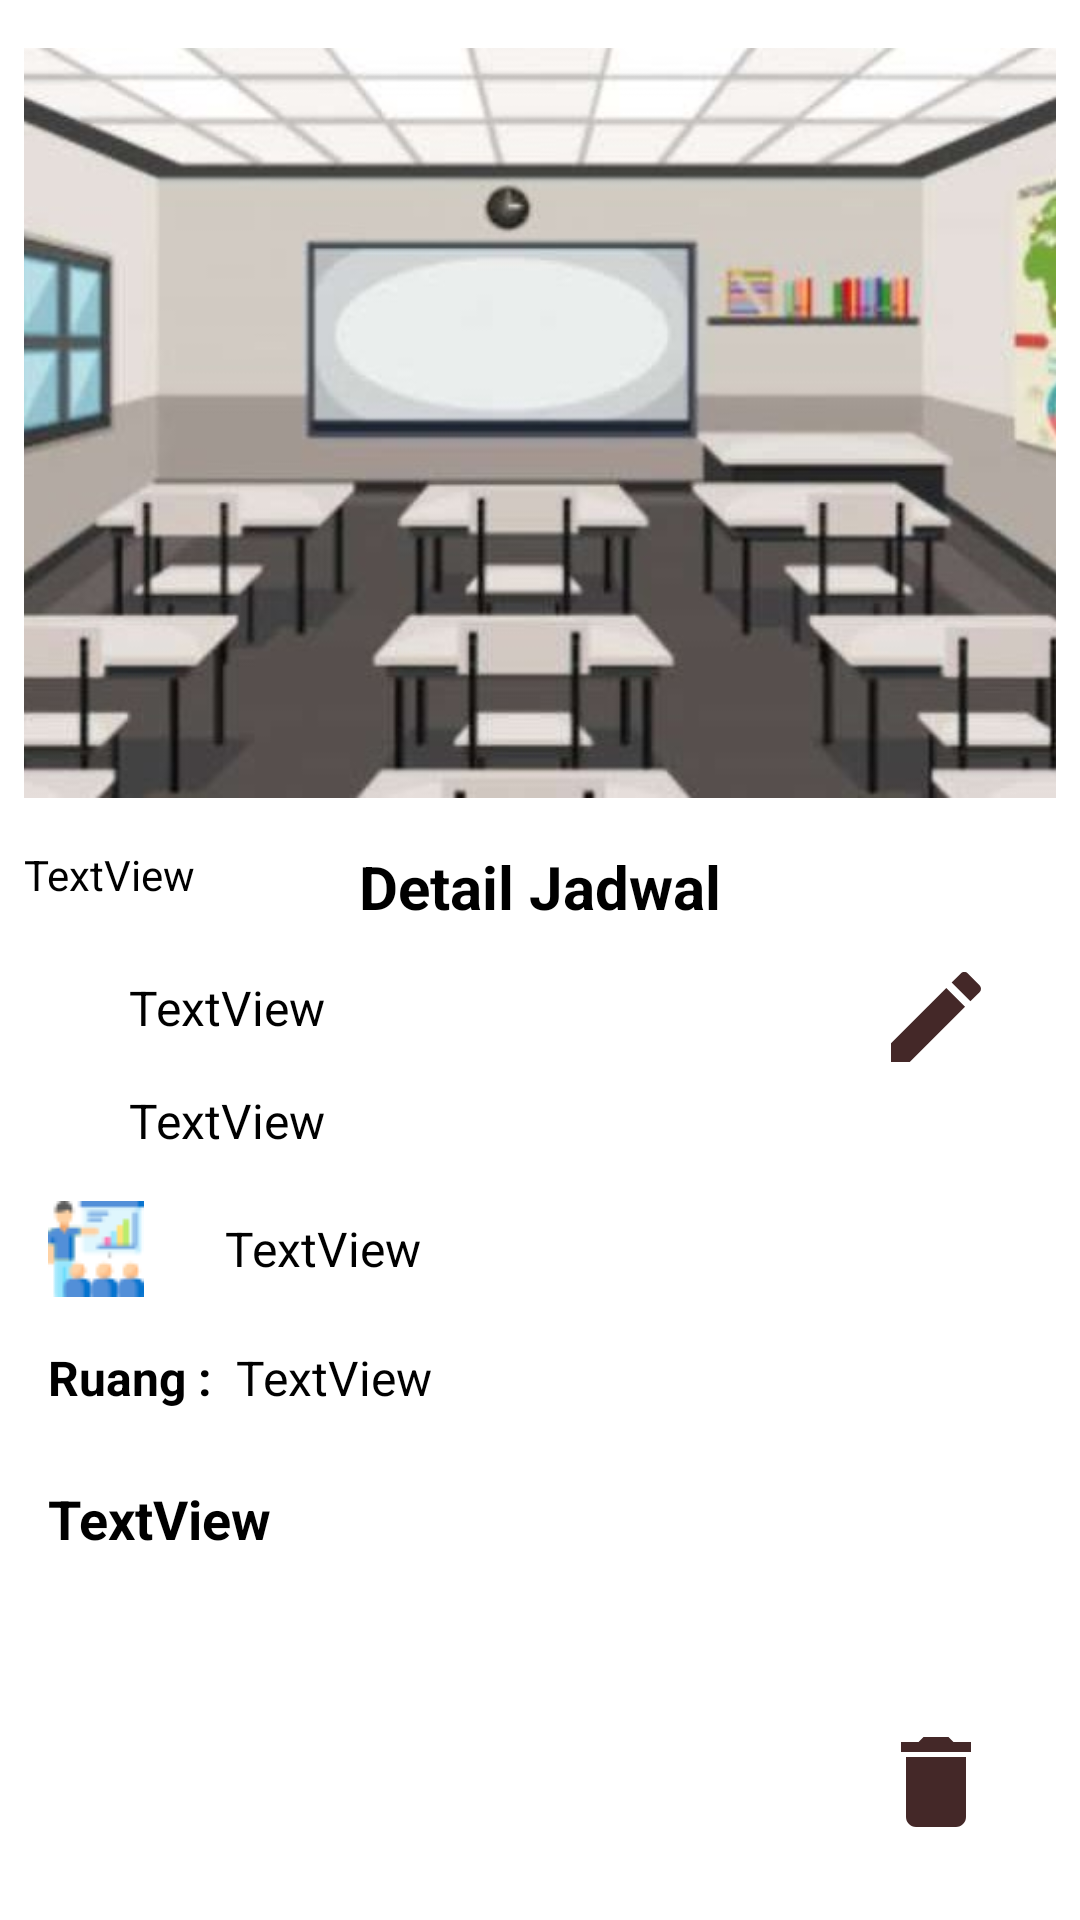

Where icons sit on this 1080*1920 app screen, as (x1, y1, x2, y2):
delete: (901, 1737, 971, 1827)
edit: (891, 972, 981, 1062)
presentation: (48, 1201, 144, 1297)
